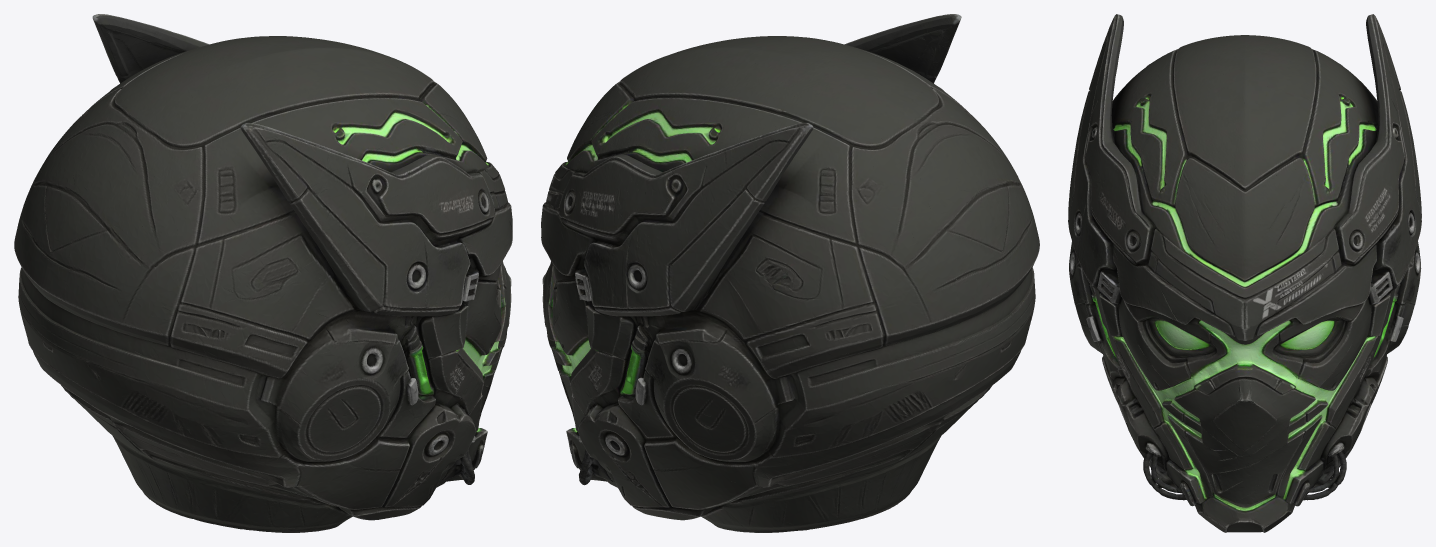
The model's file is casco-optimized.glb.
3 renders of one model, left to right at view 1: azimuth 30°, elevation 25°; view 2: azimuth 150°, elevation 25°; view 3: azimuth 270°, elevation 25°, orthographic. The views are drawn at different scales.
Visible parts, largest first — view 1: casco; view 2: casco; view 3: casco.
Part boxes in pixels (x1,y1,x2,y2): casco: [14, 14, 512, 532]; casco: [541, 14, 1039, 532]; casco: [1068, 14, 1421, 532].
Size of the model in its own units: 0.9964 by 0.9843 by 0.7685.
Materials: 1 (1 with a texture image).
